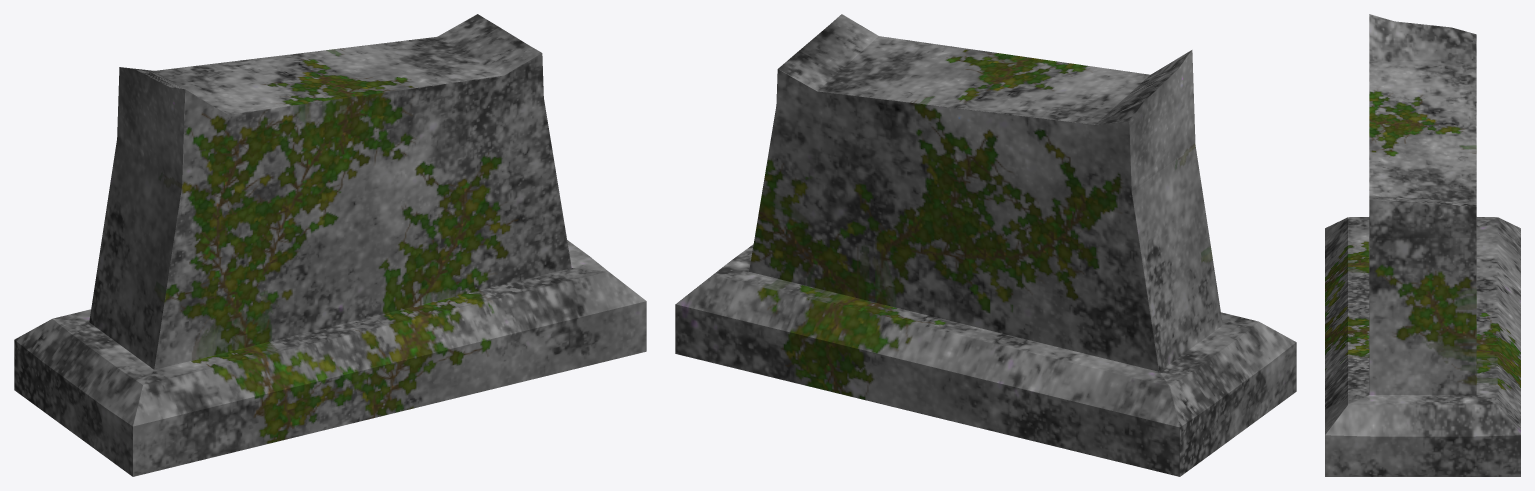
File: GraveBroken_Bottom.fbx
3 renders of one model, left to right at view 1: azimuth 30°, elevation 25°; view 2: azimuth 150°, elevation 25°; view 3: azimuth 270°, elevation 25°, orthographic. The views are drawn at different scales.
Visible parts, largest first — view 1: GraveBroken_Bottom; view 2: GraveBroken_Bottom; view 3: GraveBroken_Bottom.
Part boxes in pixels (bbox=[...]): GraveBroken_Bottom: bbox=[14, 14, 646, 476]; GraveBroken_Bottom: bbox=[675, 14, 1296, 476]; GraveBroken_Bottom: bbox=[1325, 14, 1520, 476].
Bounding box in the file's own units: 71.45 × 46.33 × 28.57.
